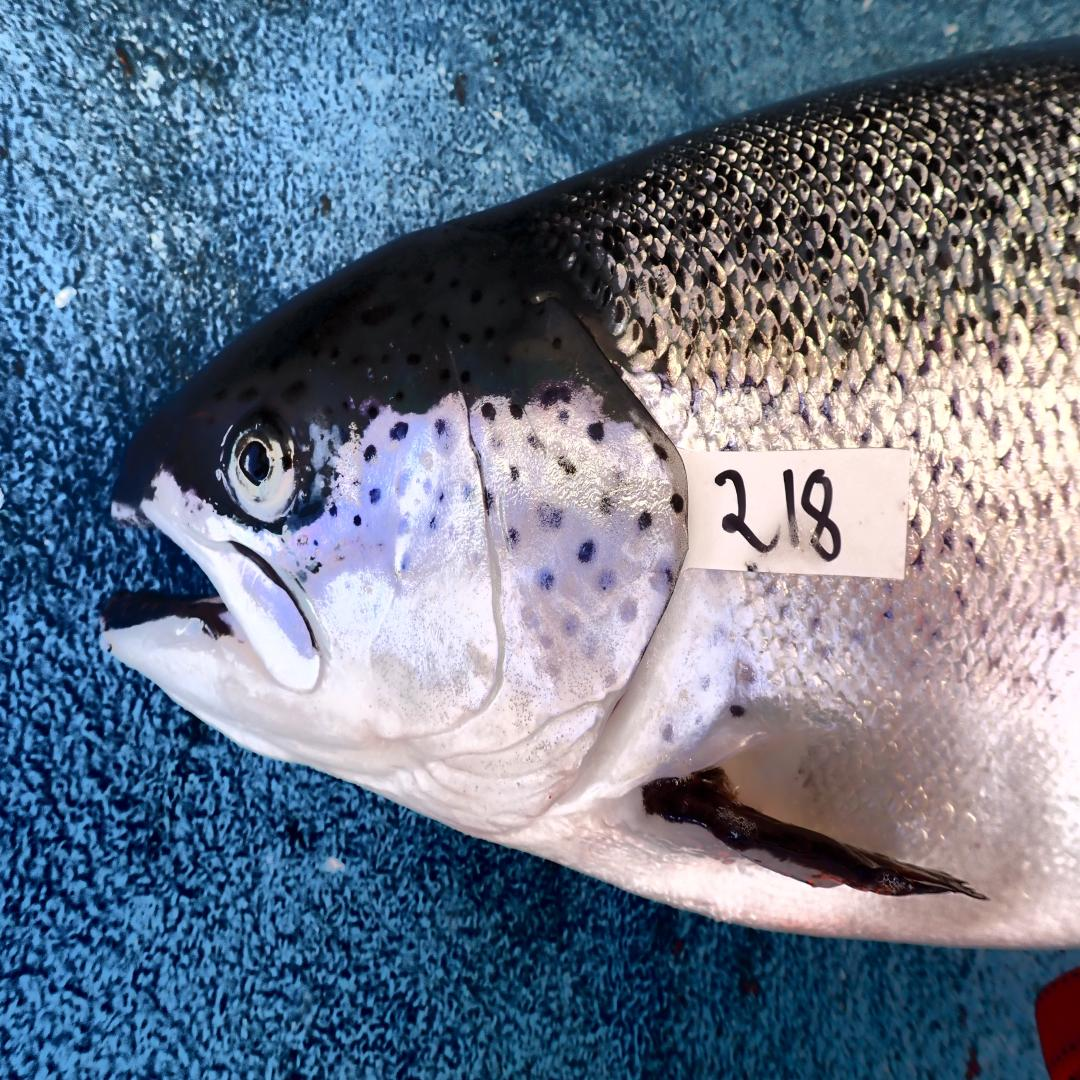spot: (540, 385, 572, 408), (538, 503, 563, 529), (597, 569, 618, 596), (393, 468, 411, 496), (557, 456, 577, 479), (600, 489, 614, 518), (390, 422, 409, 442), (578, 540, 595, 562), (505, 526, 523, 546), (538, 571, 555, 591), (637, 512, 652, 532), (481, 402, 496, 422), (397, 515, 410, 538), (435, 417, 449, 438), (589, 422, 603, 442), (363, 445, 377, 465), (671, 492, 683, 515), (368, 487, 382, 506), (653, 443, 668, 460), (460, 481, 471, 504), (509, 402, 523, 419), (483, 491, 493, 514), (509, 465, 519, 486), (528, 434, 543, 448), (664, 569, 676, 586), (429, 513, 439, 533), (398, 552, 408, 572), (423, 476, 432, 495), (558, 409, 569, 422), (328, 505, 337, 517), (353, 515, 361, 526), (439, 493, 443, 502)
